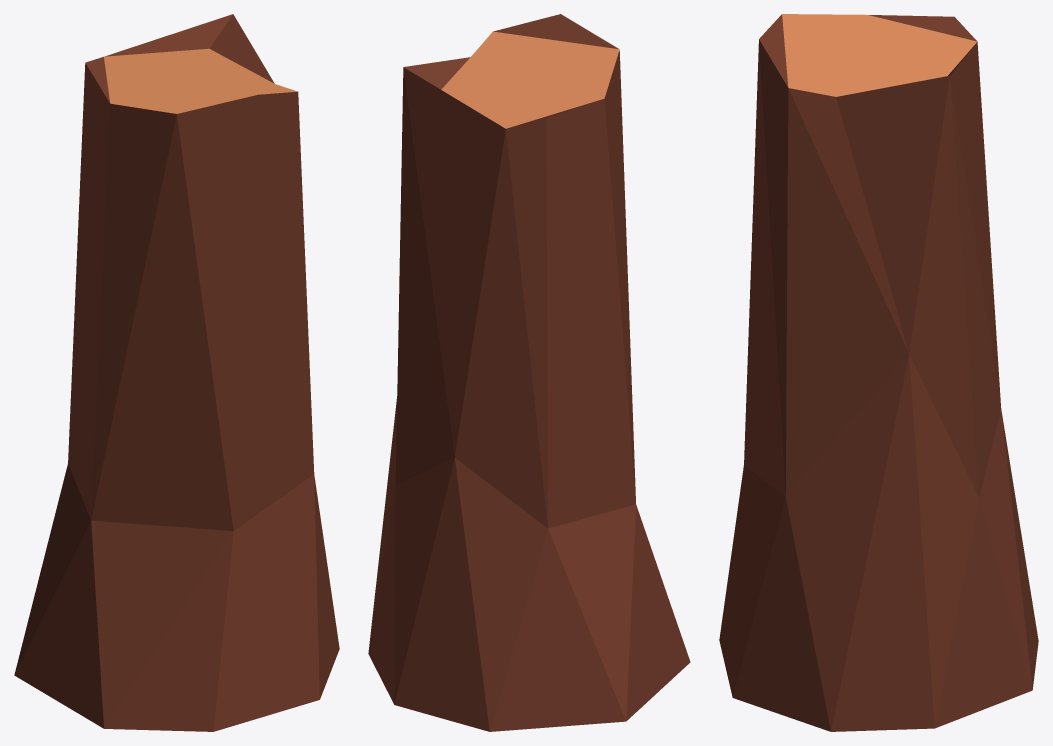
File: pine_trunk_type_7_LOD3.fbx
3 renders of one model, left to right at view 1: azimuth 30°, elevation 25°; view 2: azimuth 150°, elevation 25°; view 3: azimuth 270°, elevation 25°, orthographic. The views are drawn at different scales.
Parts seen in each view (by area): view 1: pt_type_7; view 2: pt_type_7; view 3: pt_type_7.
Boxes of the visible parts, box(x1,y1,x2,y2) form: pt_type_7: box(14, 14, 339, 731); pt_type_7: box(368, 14, 690, 731); pt_type_7: box(719, 14, 1038, 731).
Bounding box in the file's own units: 197 × 423 × 193.
